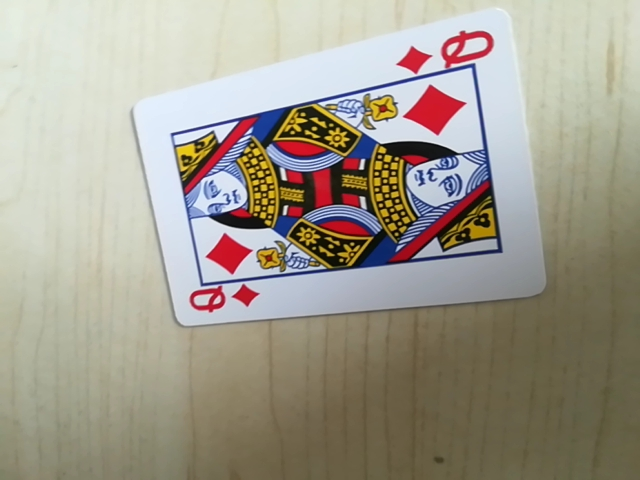fk q: (397, 25, 502, 78), (183, 279, 262, 324)
